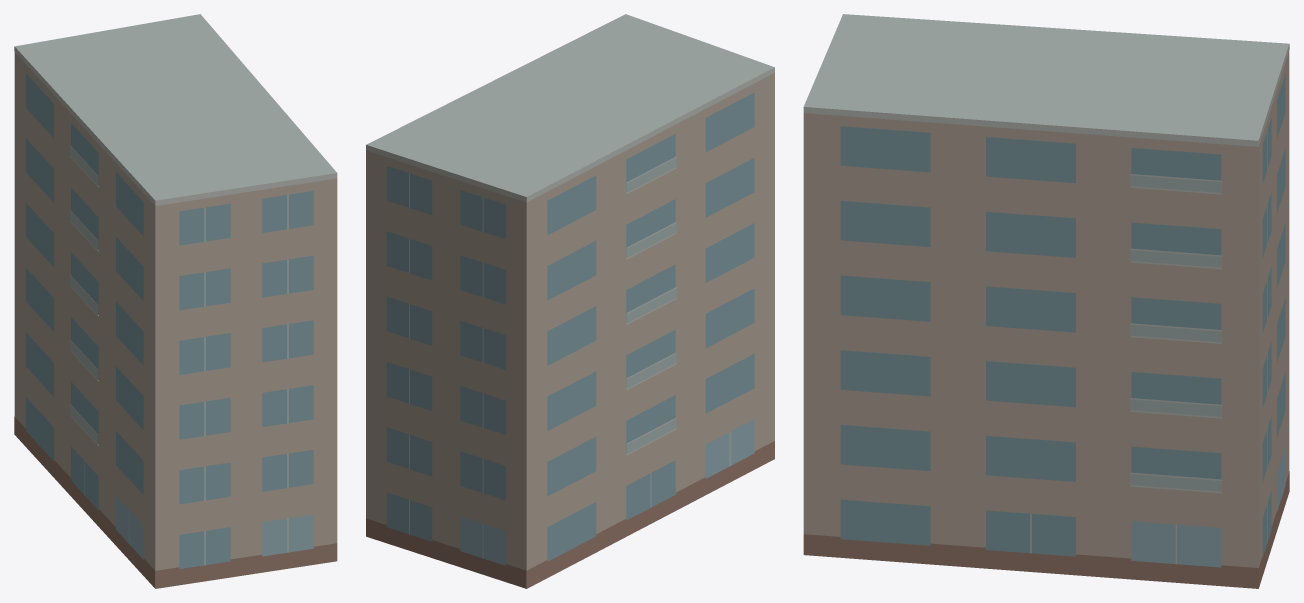
File: survey-upis-32799837.glb
3 renders of one model, left to right at view 1: azimuth 30°, elevation 25°; view 2: azimuth 150°, elevation 25°; view 3: azimuth 270°, elevation 25°, orthographic. The views are drawn at different scales.
Visible parts, largest first — view 1: survey-upis-32799837.tmp; view 2: survey-upis-32799837.tmp; view 3: survey-upis-32799837.tmp.
Boxes of the visible parts, x1,y1,x2,y2 form: survey-upis-32799837.tmp: (14,14,337,588); survey-upis-32799837.tmp: (366,14,774,588); survey-upis-32799837.tmp: (803,14,1289,588).
Size of the model in its own units: 10.75 by 17.7 by 17.4.
